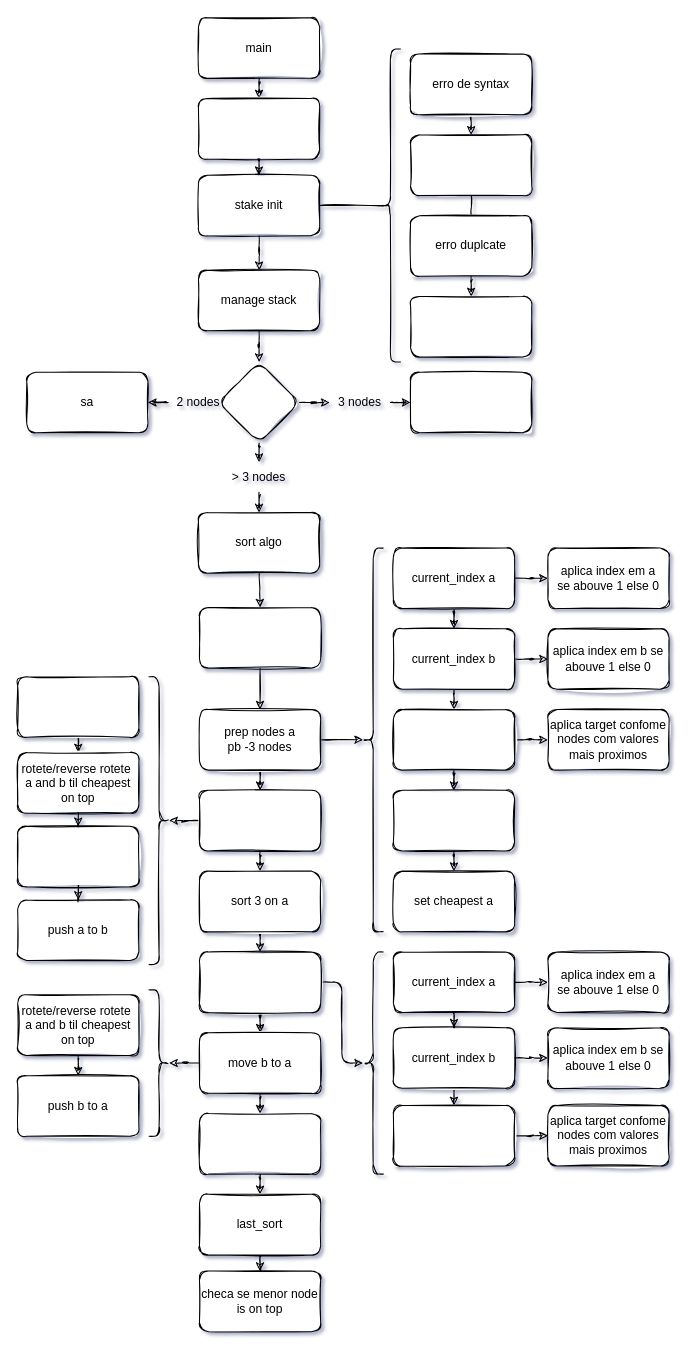
This 693x1355 diagram has some shape labels left out. The box of each missing label's shape, as (x1, y1, x2, y2) in pixels:
calculate cost of a to b: (392, 789, 515, 851)
complit rotete/reverse rotete a and b til cheapest on top: (17, 825, 139, 887)
corrent index: (198, 1113, 321, 1174)
create node: (410, 295, 532, 357)
erro limits: (410, 134, 532, 195)
find cheapest a: (17, 676, 139, 737)
move a to b: (198, 789, 321, 851)
pb 2 primeios nodes: (198, 607, 321, 668)
prep nodes b: (198, 951, 321, 1013)
ra/rra/sa: (410, 371, 532, 433)
set target a: (392, 709, 515, 770)
set target b: (392, 1104, 515, 1166)
split: (197, 97, 320, 159)
